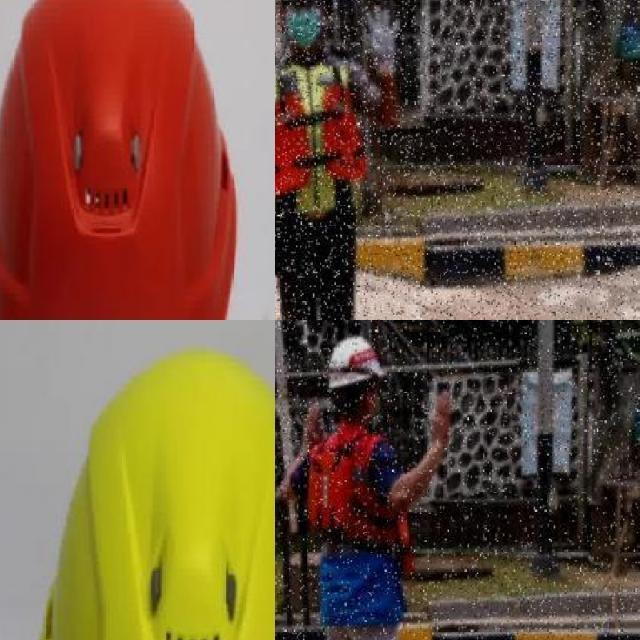apron: (358, 6, 406, 74)
